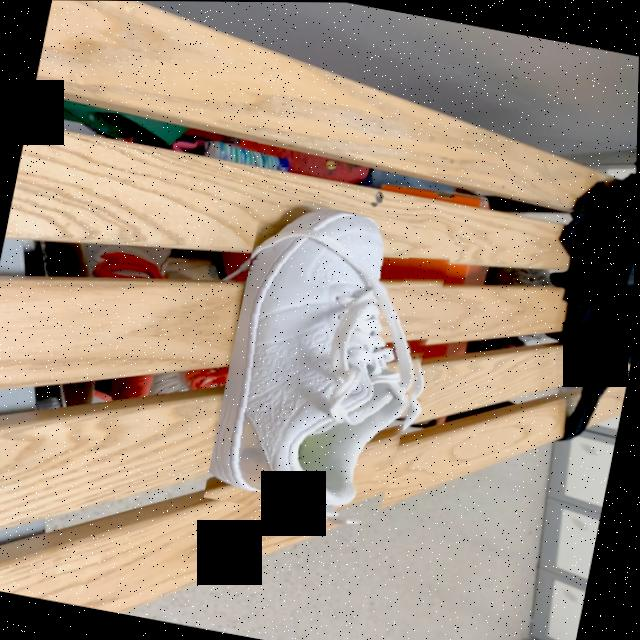shoe: (210, 210, 418, 517)
